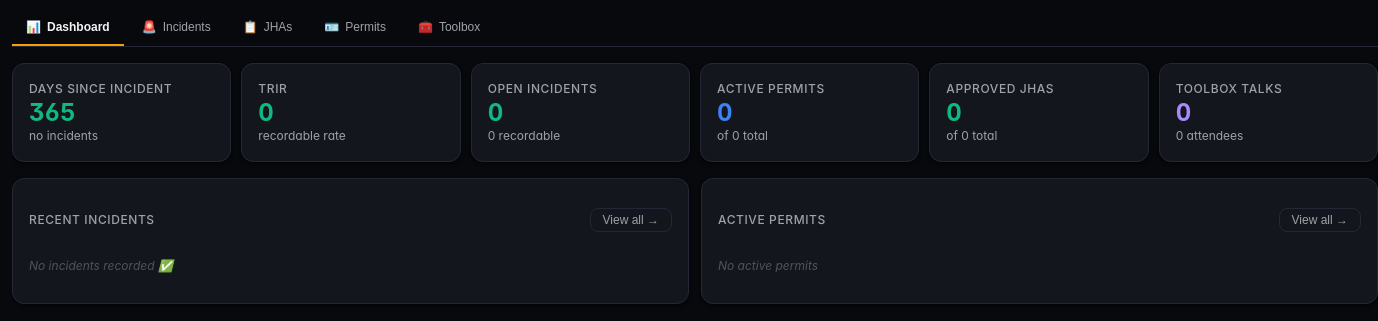
Test: incident states are distinguishable › reports a thrown request
Click the tab "🚨 Incidents" at (176, 29), box [128,12,225,46]
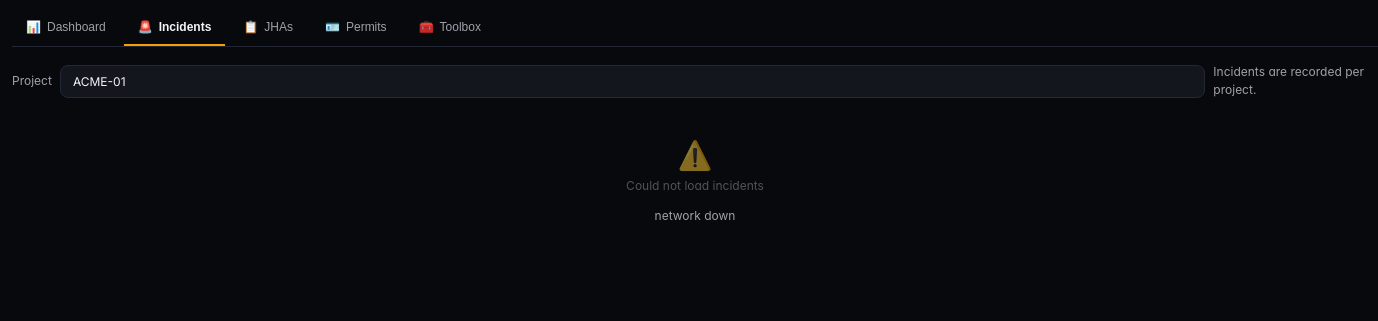
Expected: the message "⚠️ Could not load incidents network down" is shown, [626,138,764,223]
Expected: the text "network down" is shown, [654,207,735,225]
